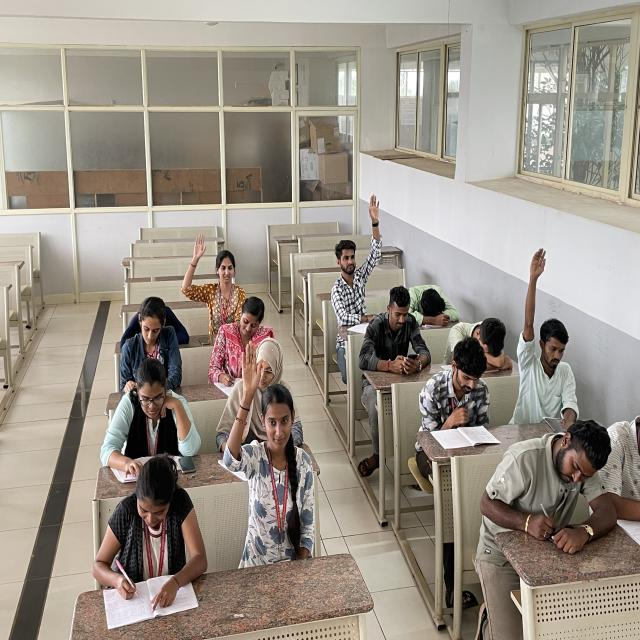Hand Rising: (510, 242, 595, 425), (224, 352, 316, 511), (330, 193, 389, 316), (182, 231, 246, 323)
Reading: (101, 364, 200, 475), (415, 338, 495, 444)
Sleeping: (440, 311, 521, 384), (408, 277, 463, 322)
Using Phone: (358, 283, 427, 375)
Writing: (95, 460, 212, 618), (208, 299, 281, 395)
